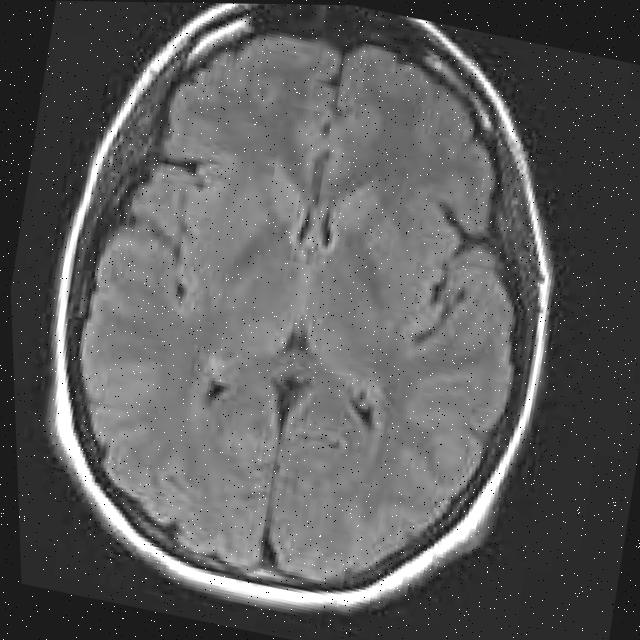NoTumor: (21, 0, 591, 625)
